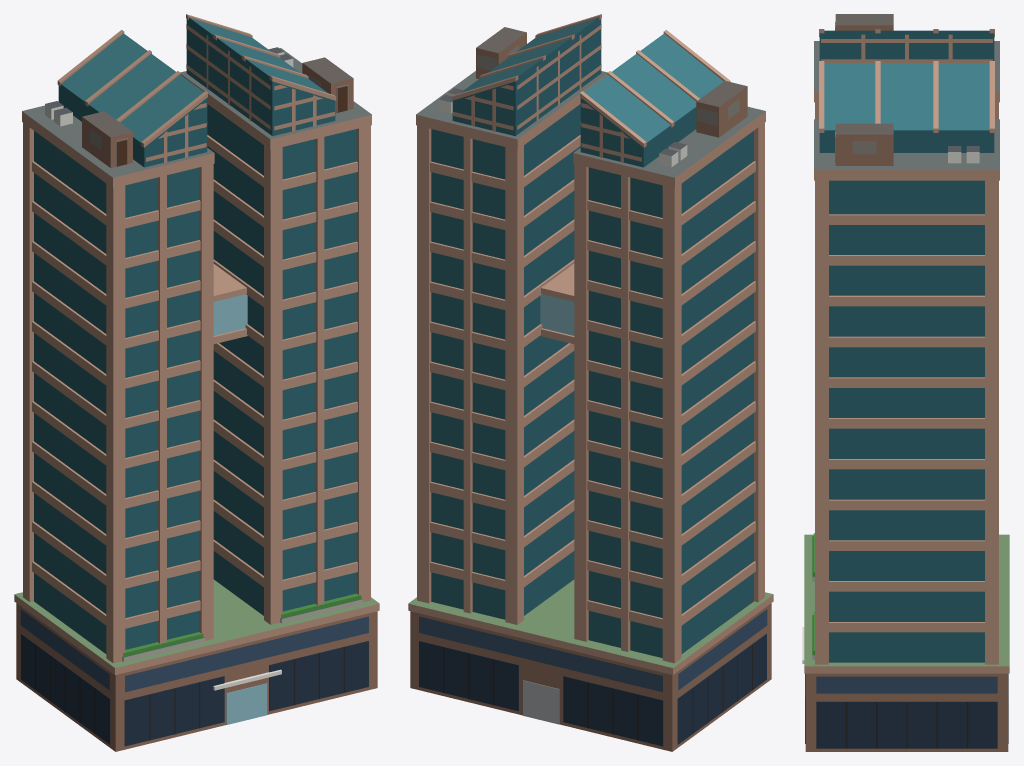
Rendered from gedung_04.glb.
3 renders of one model, left to right at view 1: azimuth 30°, elevation 25°; view 2: azimuth 150°, elevation 25°; view 3: azimuth 270°, elevation 25°, orthographic.
Parts seen in each view (by area): view 1: gedung_04; view 2: gedung_04; view 3: gedung_04.
Boxes of the visible parts, x1=… form: gedung_04: x1=14, y1=14, x2=379, y2=751; gedung_04: x1=408, y1=14, x2=773, y2=751; gedung_04: x1=802, y1=14, x2=1009, y2=751.
Bounding box in the file's own units: 23.54 × 53.55 × 15.69.
